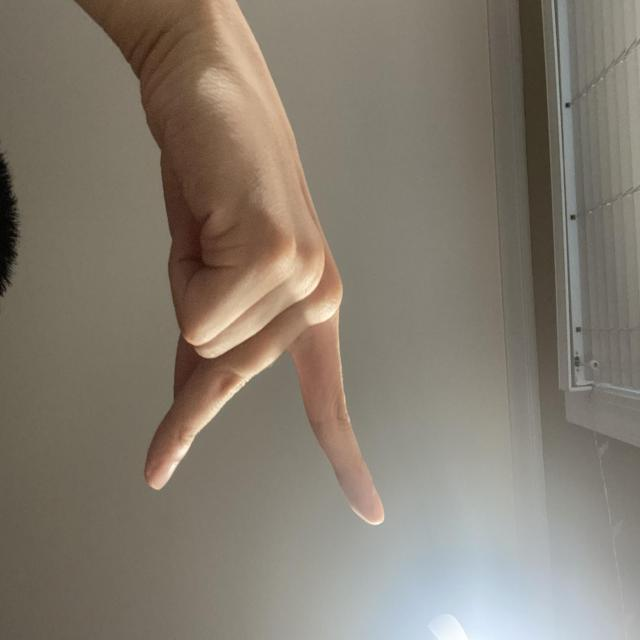P: (161, 334, 562, 640)
